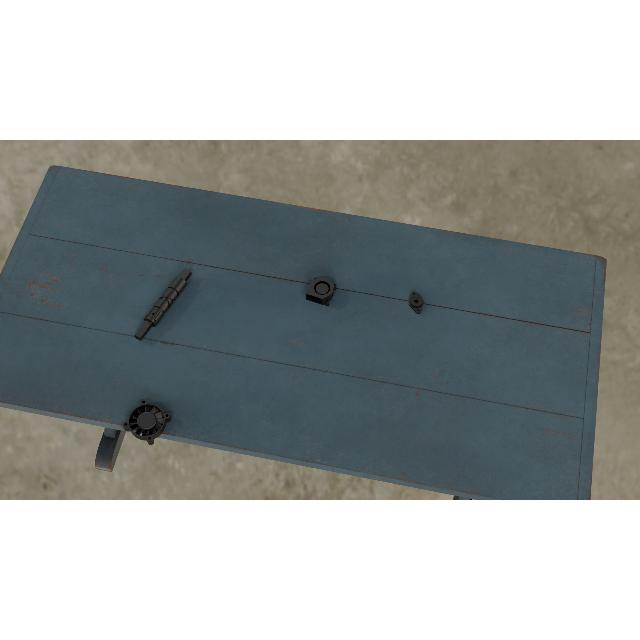Pieza1: (131, 266, 195, 344)
Pieza2: (406, 290, 426, 314)
Pieza3: (306, 274, 338, 308)
Pieza4: (121, 398, 173, 447)
